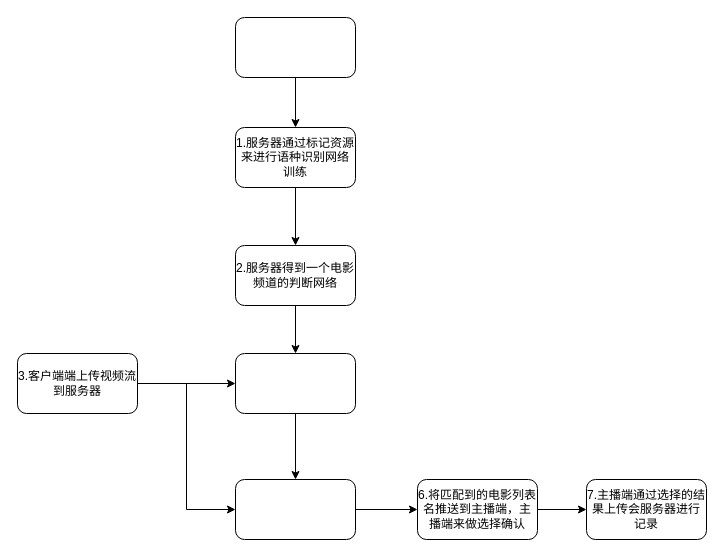
Image size: 724x557. Some labels were removed from this diagram. The box of each missing label's shape, as (x1, y1, x2, y2) in pixels:
4.服务器通过判断网络来识别当前资源是哪个国家的类别: (234, 352, 356, 414)
5.通过人脸识别电影出现的人物，然后和服务器的资源库匹配: (234, 478, 356, 540)
标记多国语言电影: (234, 16, 356, 78)
